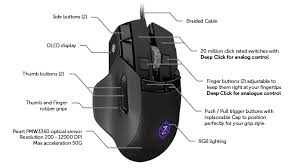mouse: (89, 17, 192, 164)
